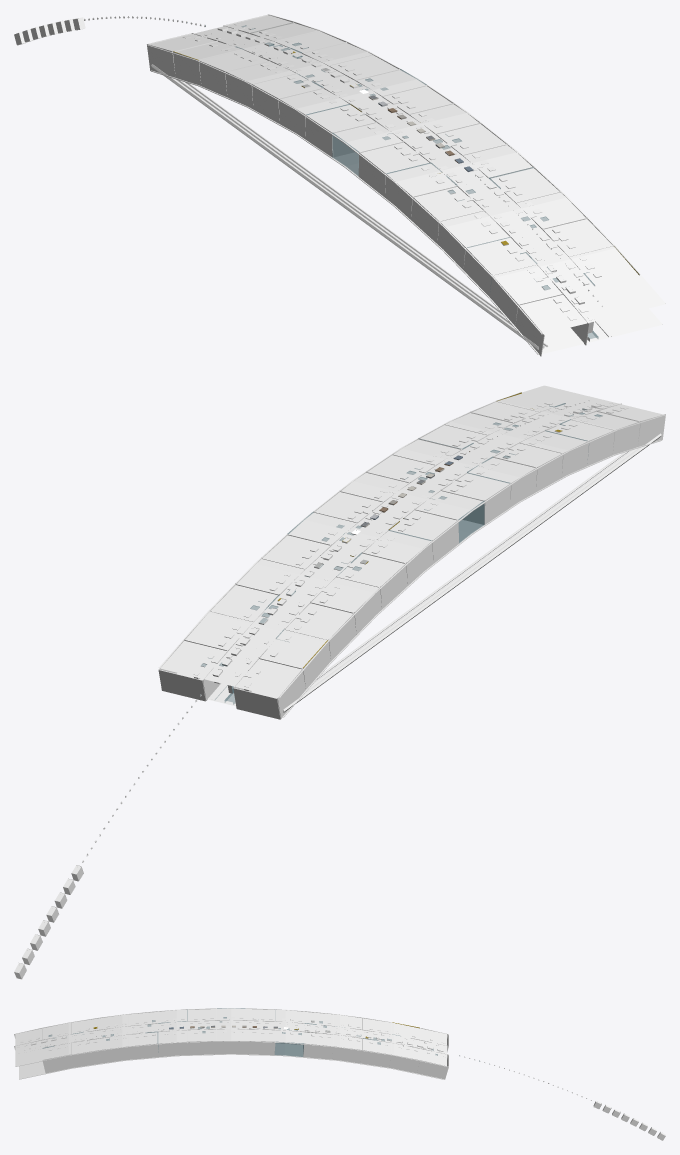
The model's file is xuanshu_interior_C20.glb.
3 renders of one model, top to bottom at view 1: azimuth 30°, elevation 25°; view 2: azimuth 150°, elevation 25°; view 3: azimuth 270°, elevation 25°, orthographic. The views are drawn at different scales.
Parts seen in each view (by area): view 1: UNIT-HAB-001_S31587; view 2: UNIT-HAB-001_S31587; view 3: UNIT-HAB-001_S31587.
Boxes of the visible parts, <box> form: UNIT-HAB-001_S31587: <box>14,14,665,356</box>; UNIT-HAB-001_S31587: <box>14,385,665,979</box>; UNIT-HAB-001_S31587: <box>14,1008,665,1140</box>.
Size of the model in its own units: 17.31 by 27.86 by 144.
